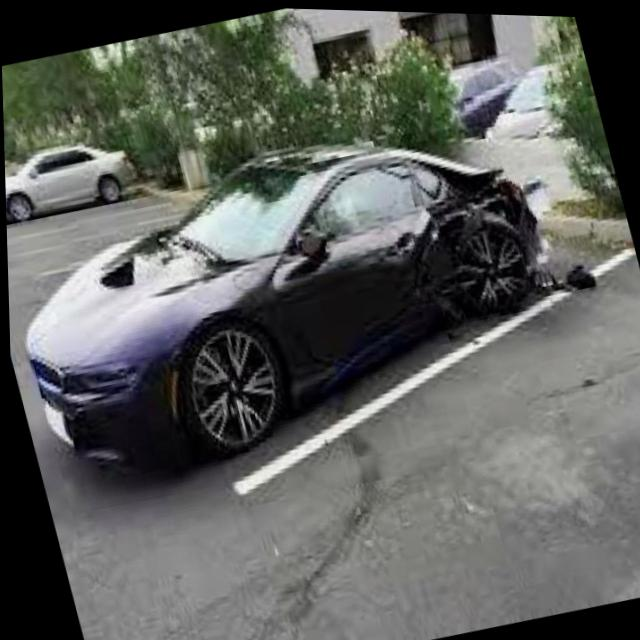Car-Damage: (373, 127, 562, 325)
